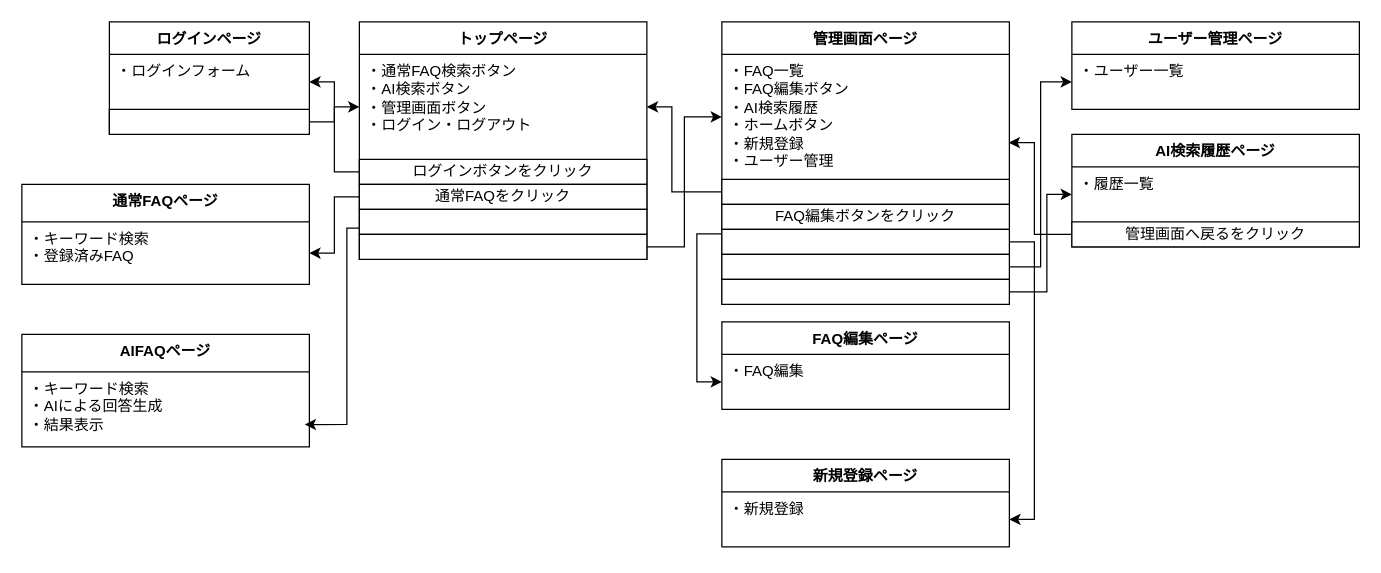
The diagram is 1381 pixels wide and 573 high, and some of its shapes have lost their labels. Here are the shapes that lost their labels. From the top down, the centre of each, then its label:
At point (208, 121): "ログイン".
At point (865, 191): "ホームボタンをクリック".
At point (502, 221): "AI検索ボタンをクリック".
At point (865, 241): "新規登録ボタンをクリック".
At point (502, 246): "管理画面ボタンをクリック".
At point (865, 266): "ユーザー管理ボタンをクリック".
At point (865, 291): "AI検索履歴ボタンをクリック".
